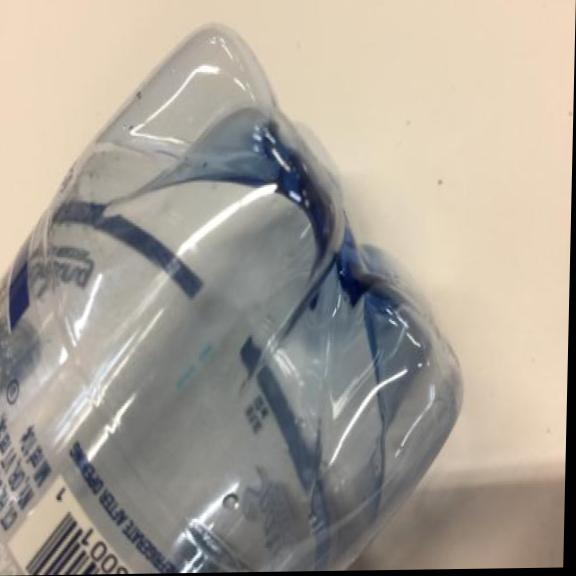Plastik: (0, 18, 471, 576)
